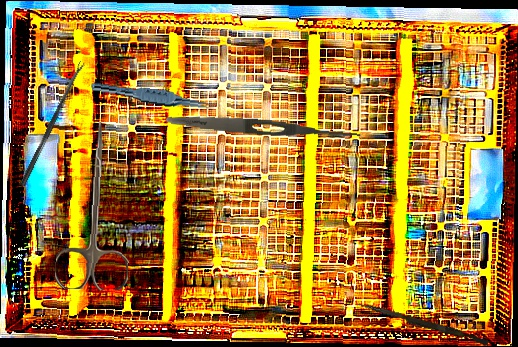Dressing Forceps: (165, 112, 364, 142)
Iris Scissors: (54, 120, 134, 291)
Pusher: (355, 301, 490, 346)
Surgical Spoon: (19, 61, 86, 187)
Tissue Forceps: (89, 81, 218, 113)
